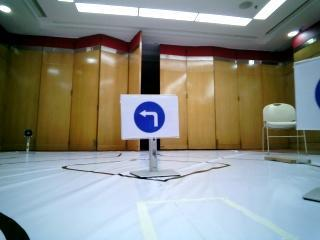left: (124, 97, 170, 136)
